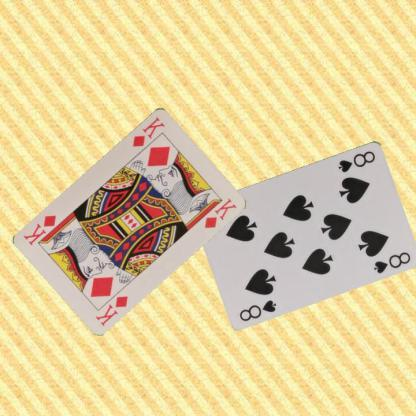8s: (237, 297, 278, 322), (336, 148, 376, 173)
Kd: (92, 292, 130, 327), (130, 113, 166, 148)
